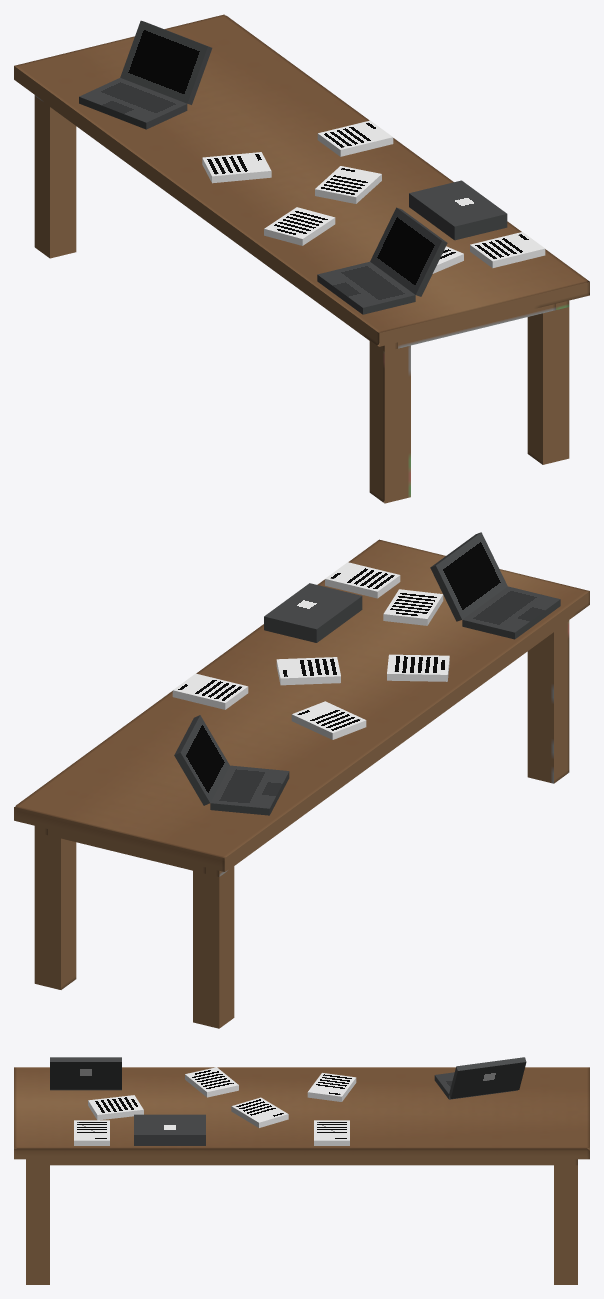
File: stol.fbx
The picture shows the model from 3 angles, top to bottom: view 1: azimuth 30°, elevation 25°; view 2: azimuth 150°, elevation 25°; view 3: azimuth 270°, elevation 25°; orthographic projection. The views are drawn at different scales.
Parts seen in each view (by area): view 1: cube_8, cube_4, cube_5, cube, cube_12, cube_10, cube_11, cube_9, cube_13, cube_18, cube_15, cube_20 (+5 smaller); view 2: cube_8, cube_3, cube, cube_5, cube_10, cube_9, cube_13, cube_11, cube_12, cube_18, cube_15, cube_19 (+6 smaller); view 3: cube_8, cube_2, cube_3, cube_4, cube_10, cube_12, cube_13, cube_16, cube_17, cube_20, cube_19, cube_15 (+3 smaller).
Boxes of the visible parts, x1,y1,x2,y2 form: cube_8: (14, 14, 589, 346); cube_4: (527, 307, 569, 464); cube_5: (369, 341, 410, 503); cube: (34, 96, 76, 258); cube_12: (120, 20, 212, 104); cube_10: (370, 207, 447, 296); cube_11: (79, 78, 187, 129); cube_9: (317, 261, 415, 314); cube_13: (409, 180, 507, 233); cube_18: (317, 120, 393, 156); cube_15: (470, 232, 545, 268); cube_20: (264, 207, 335, 245); cube_8: (14, 539, 589, 871); cube_3: (34, 832, 76, 989); cube: (193, 866, 234, 1028); cube_5: (527, 621, 569, 783); cube_10: (430, 532, 507, 621); cube_9: (462, 586, 560, 639); cube_13: (264, 583, 362, 636); cube_11: (210, 765, 289, 815); cube_12: (174, 715, 229, 805); cube_18: (172, 673, 248, 709); cube_15: (325, 562, 400, 598); cube_19: (291, 701, 366, 739); cube_8: (14, 1067, 589, 1159); cube_2: (26, 1159, 577, 1165); cube_3: (554, 1165, 577, 1284); cube_4: (26, 1165, 49, 1284); cube_10: (50, 1057, 121, 1089); cube_12: (449, 1057, 526, 1098); cube_13: (134, 1114, 205, 1140); cube_16: (231, 1097, 288, 1127); cube_17: (88, 1095, 143, 1120); cube_20: (185, 1067, 238, 1097); cube_19: (307, 1073, 356, 1101); cube_15: (74, 1120, 109, 1145).
Bounding box in the file's own units: 100 × 106 × 300.
3 materials, 3 textured.
